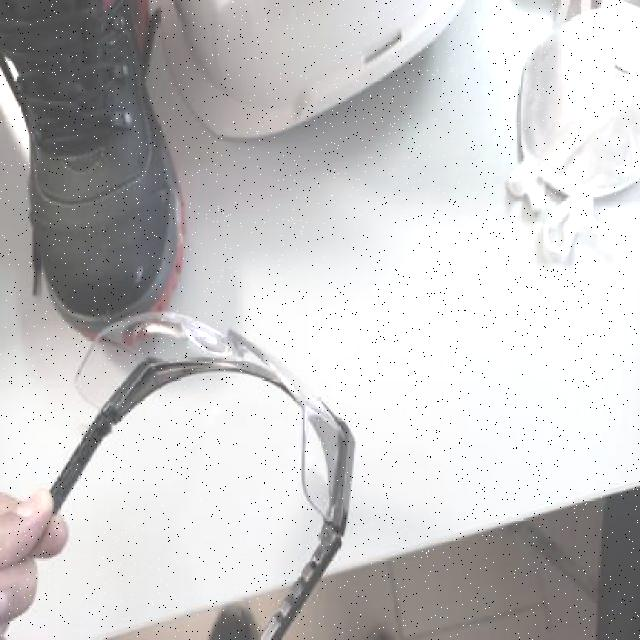Boots: (2, 0, 182, 320)
